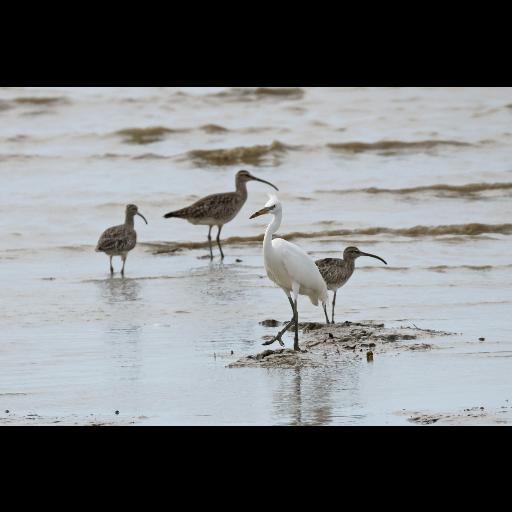chinese_egret: (248, 192, 328, 354)
